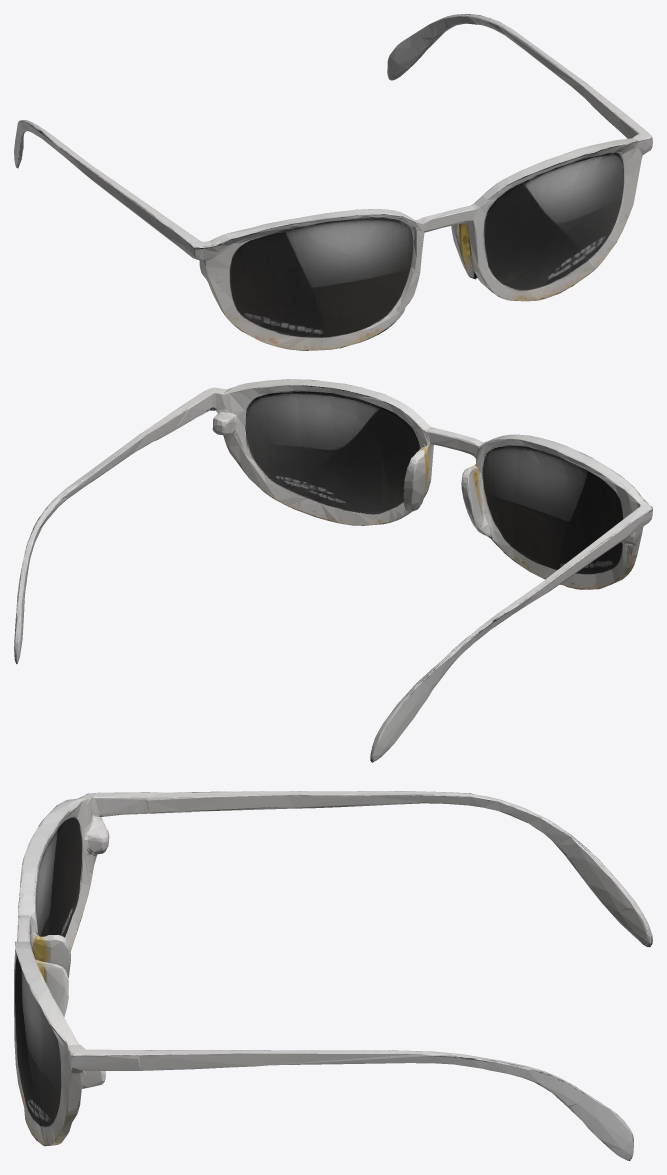
File: white_open_glasses.glb
3 renders of one model, top to bottom at view 1: azimuth 30°, elevation 25°; view 2: azimuth 150°, elevation 25°; view 3: azimuth 270°, elevation 25°, orthographic. The views are drawn at different scales.
Visible parts, largest first — view 1: geometry_0; view 2: geometry_0; view 3: geometry_0.
Part boxes in pixels (x1=…): geometry_0: x1=14, y1=14, x2=652, y2=350; geometry_0: x1=14, y1=379, x2=652, y2=762; geometry_0: x1=14, y1=791, x2=652, y2=1160.
Size of the model in its own units: 0.9996 by 0.2903 by 0.9954.
Materials: 1 (1 with a texture image).
